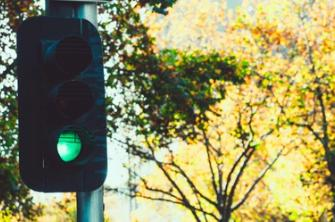green_light: (17, 16, 107, 192)
